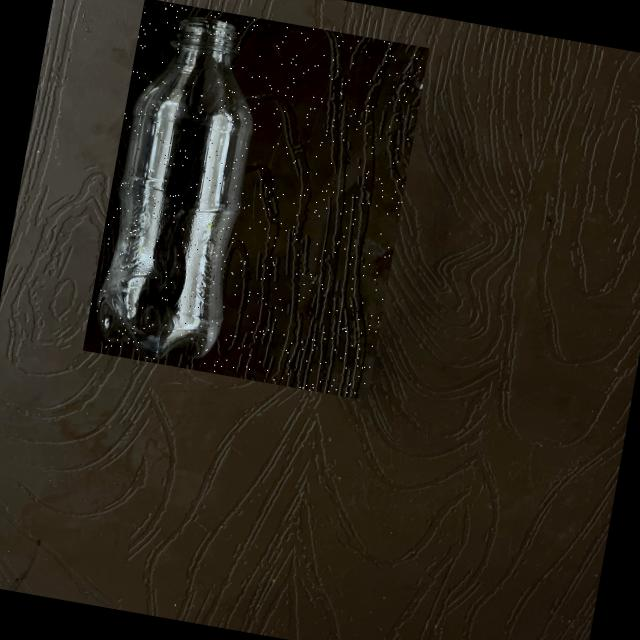PET_ClearBottle: (81, 0, 428, 399)
